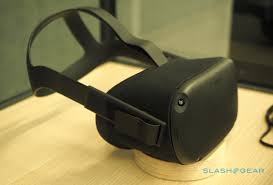oculus: (96, 55, 241, 167)
